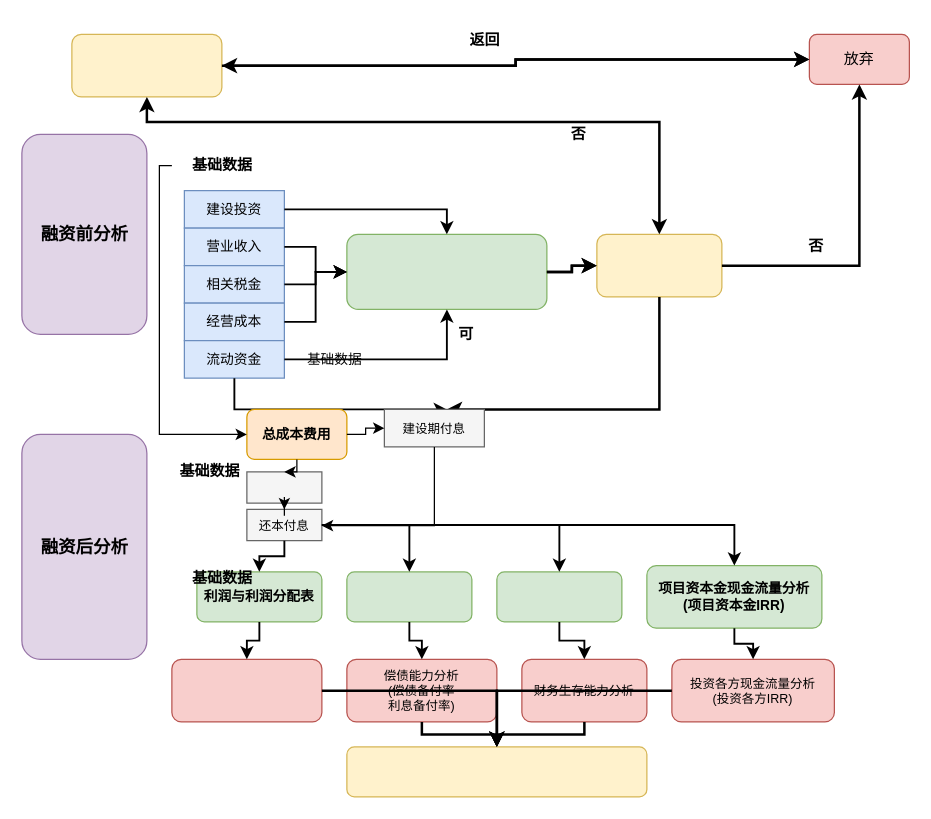
This 931x819 diagram has some shape labels left out. The centre of each missing label's shape, as x and y in pixels:
折旧摊销: the point at 284,487
敏感性分析和盈亏平衡分析: the point at 496,771
融资方案: the point at 659,265
财务计划现金流量表: the point at 409,596
资产负债表: the point at 559,596
静态分析 (总投资收益率 项目资本金净利润率): the point at 246,690
项目投资现金流量分析 (项目IRR、NPV、回收期): the point at 446,271
项目方案设计: the point at 146,65
